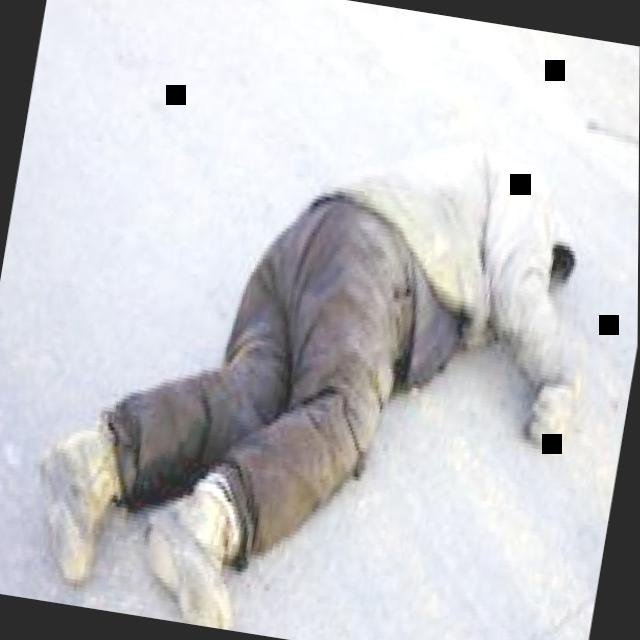Fall-Detected: (0, 53, 631, 640)
